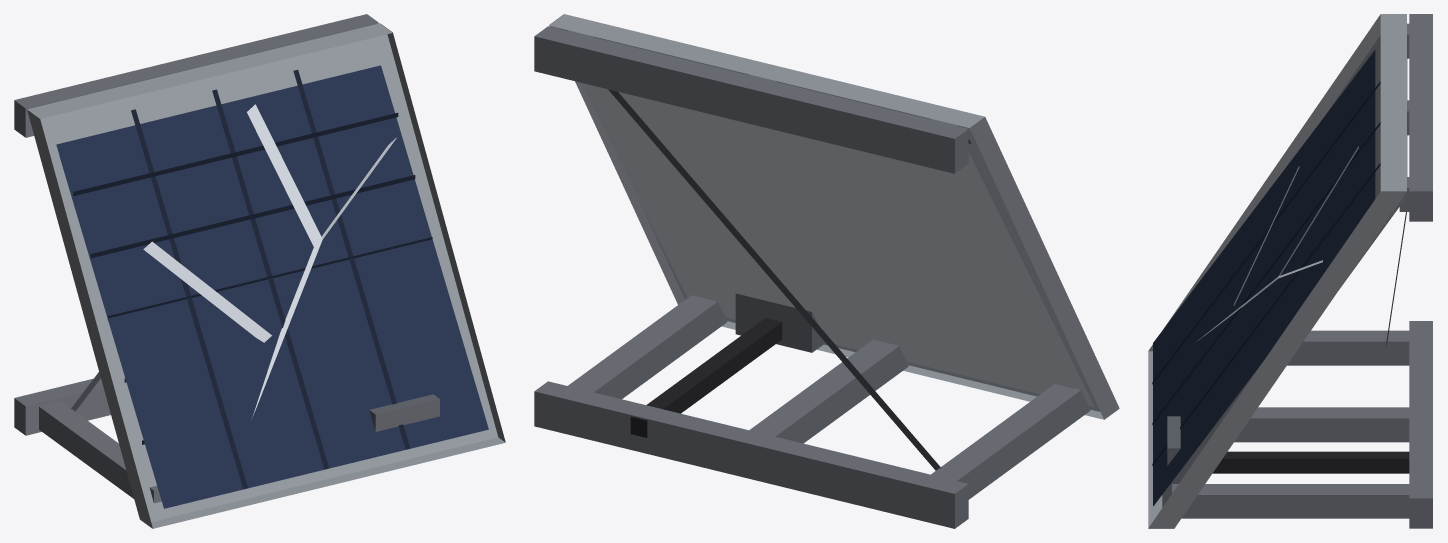
File: array_ground_standard_cracked_S.obj
The picture shows the model from 3 angles, left to right: view 1: azimuth 30°, elevation 25°; view 2: azimuth 150°, elevation 25°; view 3: azimuth 270°, elevation 25°; orthographic projection. The views are drawn at different scales.
Visible parts, largest first — view 1: array_ground_standard_cracked_S; view 2: array_ground_standard_cracked_S; view 3: array_ground_standard_cracked_S.
Boxes of the visible parts, x1=… form: array_ground_standard_cracked_S: x1=14, y1=14, x2=505, y2=528; array_ground_standard_cracked_S: x1=534, y1=14, x2=1119, y2=528; array_ground_standard_cracked_S: x1=1148, y1=14, x2=1432, y2=528.
Bounding box in the file's own units: 0.881 × 0.781 × 0.5989.
1 material, 1 textured.
